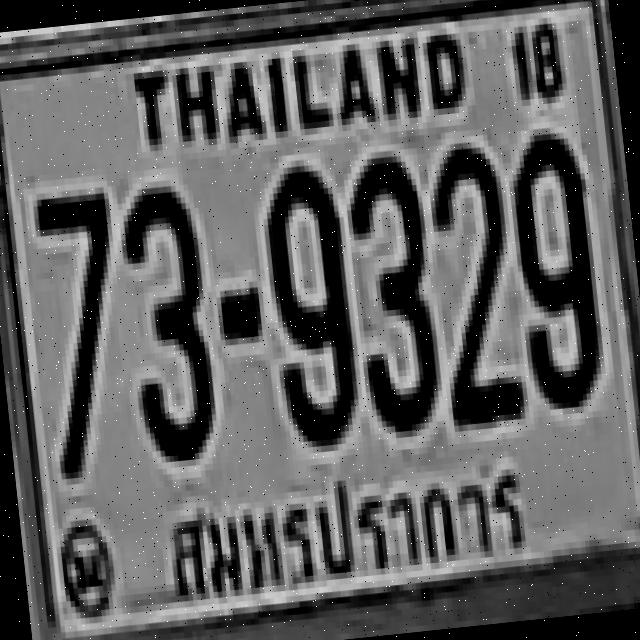2: (423, 140, 523, 426)
3: (341, 151, 441, 431), (116, 178, 216, 458)
7: (32, 187, 132, 473), (32, 186, 128, 442), (32, 186, 122, 382)
9: (258, 156, 358, 442), (504, 125, 604, 405)
SamutPrakan: (140, 436, 546, 628)
